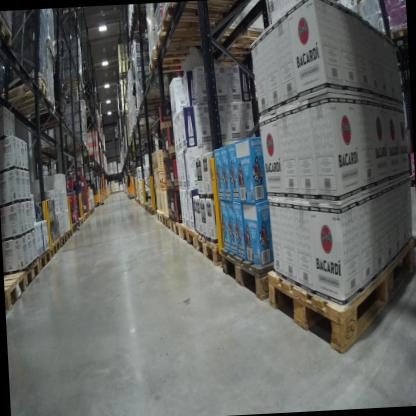pallet: (262, 229, 416, 362), (219, 222, 327, 307), (157, 0, 241, 37), (218, 19, 277, 62), (154, 17, 220, 53), (146, 46, 204, 81), (204, 41, 269, 70), (0, 74, 49, 109), (193, 226, 228, 272), (12, 92, 57, 121), (3, 268, 29, 312), (19, 255, 43, 291), (0, 10, 16, 52), (132, 96, 168, 114), (35, 116, 68, 135), (126, 19, 155, 36), (63, 141, 89, 159), (180, 223, 197, 248), (34, 144, 57, 162), (37, 246, 53, 271), (131, 119, 158, 133), (390, 23, 407, 44), (63, 72, 84, 89), (169, 217, 185, 238), (129, 13, 154, 26), (48, 236, 62, 259), (129, 4, 156, 15), (45, 38, 57, 62), (147, 201, 160, 217), (60, 226, 73, 242), (85, 157, 101, 168), (154, 206, 164, 223), (58, 230, 68, 247), (67, 221, 78, 235), (162, 211, 171, 228), (117, 69, 131, 79), (409, 168, 415, 185), (353, 0, 379, 3), (77, 216, 83, 226), (80, 213, 86, 223), (75, 220, 80, 229)
pallet_truck: (79, 172, 100, 206), (124, 162, 138, 199)
